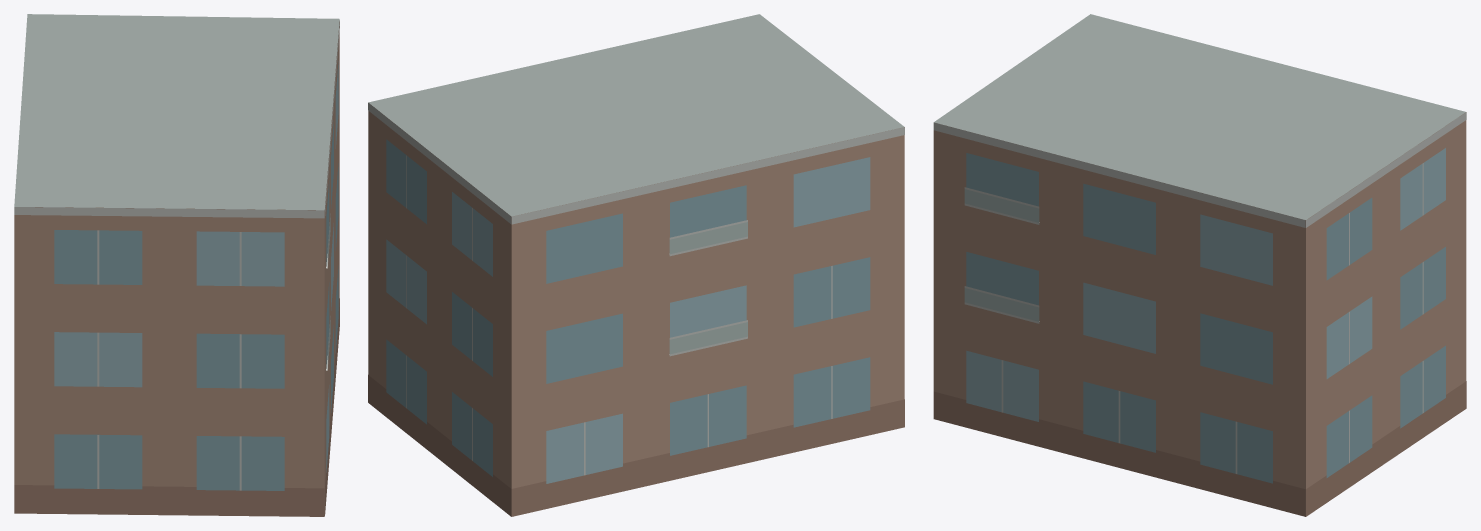
The model's file is survey-upis-32541254.glb.
The picture shows the model from 3 angles, left to right: view 1: azimuth 30°, elevation 25°; view 2: azimuth 150°, elevation 25°; view 3: azimuth 270°, elevation 25°; orthographic projection. The views are drawn at different scales.
Visible parts, largest first — view 1: survey-upis-32541254.tmp; view 2: survey-upis-32541254.tmp; view 3: survey-upis-32541254.tmp.
Boxes of the visible parts, bbox=[...] form: survey-upis-32541254.tmp: bbox=[14, 14, 339, 516]; survey-upis-32541254.tmp: bbox=[368, 14, 904, 516]; survey-upis-32541254.tmp: bbox=[933, 14, 1466, 516].
Bounding box in the file's own units: 13.65 × 9.15 × 14.9.
